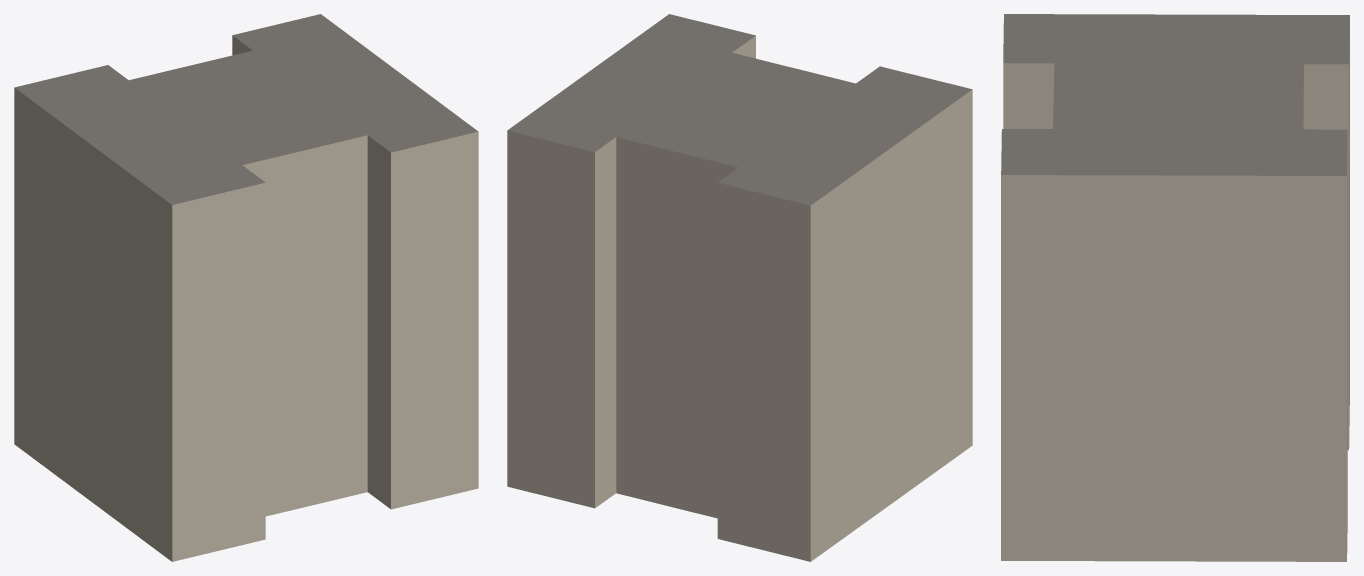
3 renders of one model, left to right at view 1: azimuth 30°, elevation 25°; view 2: azimuth 150°, elevation 25°; view 3: azimuth 270°, elevation 25°, orthographic. The views are drawn at different scales.
Parts seen in each view (by area): view 1: HP-w858824336; view 2: HP-w858824336; view 3: HP-w858824336.
Boxes of the visible parts, x1,y1,x2,y2 form: HP-w858824336: [14, 14, 478, 561]; HP-w858824336: [507, 14, 972, 561]; HP-w858824336: [1001, 14, 1349, 561].
Size of the model in its own units: 16.22 by 18 by 14.75.
